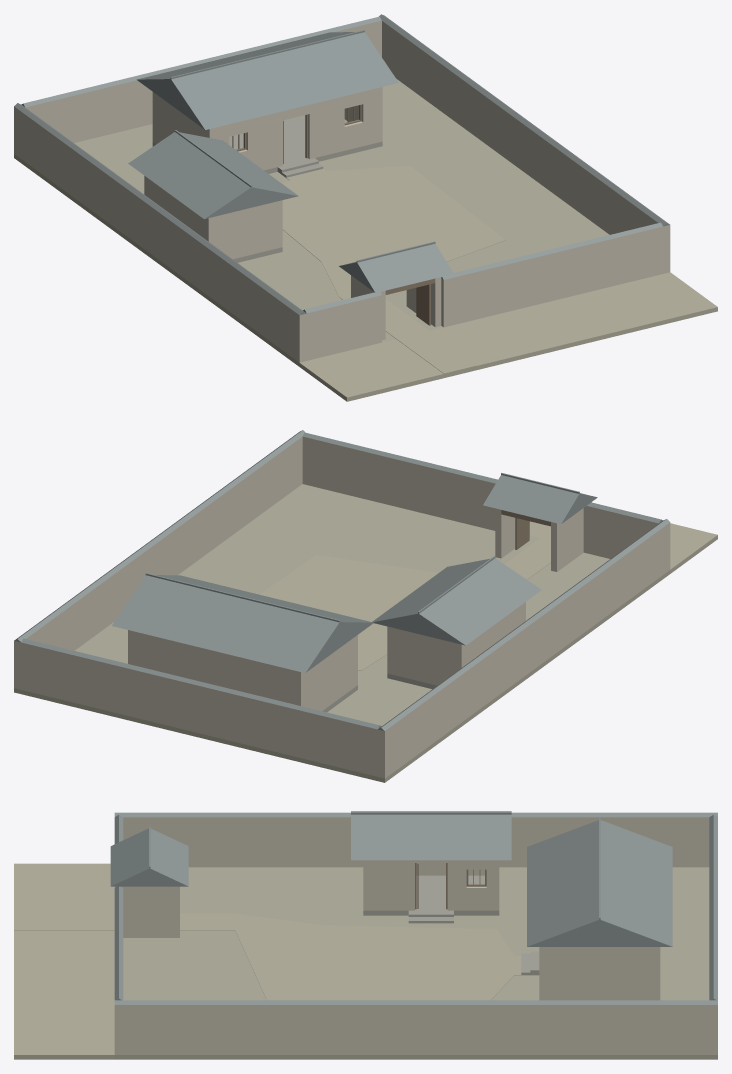
3 renders of one model, top to bottom at view 1: azimuth 30°, elevation 25°; view 2: azimuth 150°, elevation 25°; view 3: azimuth 270°, elevation 25°, orthographic. The views are drawn at different scales.
Parts seen in each view (by area): view 1: architecture_C_whitebox_earth_wall.001, architecture_C_roof_rhythm_not_glaze_copy.001, site_lot, designed_hardpacked_activity_ground, site_neutral_lane, architecture_C_floor_plinth.001, architecture_C_plain_timber.001; view 2: architecture_C_whitebox_earth_wall.001, architecture_C_roof_rhythm_not_glaze_copy.001, site_lot, designed_hardpacked_activity_ground, site_neutral_lane, architecture_C_plain_timber.001; view 3: architecture_C_whitebox_earth_wall.001, architecture_C_roof_rhythm_not_glaze_copy.001, site_lot, designed_hardpacked_activity_ground, site_neutral_lane, architecture_C_floor_plinth.001, architecture_C_plain_timber.001.
Boxes of the visible parts, x1,y1,x2,y2 form: architecture_C_whitebox_earth_wall.001: (14, 20, 670, 362); architecture_C_roof_rhythm_not_glaze_copy.001: (14, 14, 669, 315); site_lot: (14, 79, 609, 366); designed_hardpacked_activity_ground: (282, 166, 505, 373); site_neutral_lane: (299, 272, 717, 401); architecture_C_floor_plinth.001: (152, 115, 382, 262); architecture_C_plain_timber.001: (232, 104, 435, 325); architecture_C_whitebox_earth_wall.001: (14, 436, 670, 778); architecture_C_roof_rhythm_not_glaze_copy.001: (14, 430, 669, 730); site_lot: (14, 484, 670, 782); designed_hardpacked_activity_ground: (259, 530, 550, 670); site_neutral_lane: (530, 521, 717, 573); architecture_C_plain_timber.001: (501, 510, 550, 549); architecture_C_whitebox_earth_wall.001: (114, 817, 717, 1054); architecture_C_roof_rhythm_not_glaze_copy.001: (110, 811, 717, 1004); site_lot: (114, 867, 717, 1059); designed_hardpacked_activity_ground: (14, 913, 521, 1000); site_neutral_lane: (14, 863, 114, 1059); architecture_C_floor_plinth.001: (363, 875, 539, 975); architecture_C_plain_timber.001: (415, 863, 486, 909).
Size of the model in its own units: 18 by 4.49 by 28.
